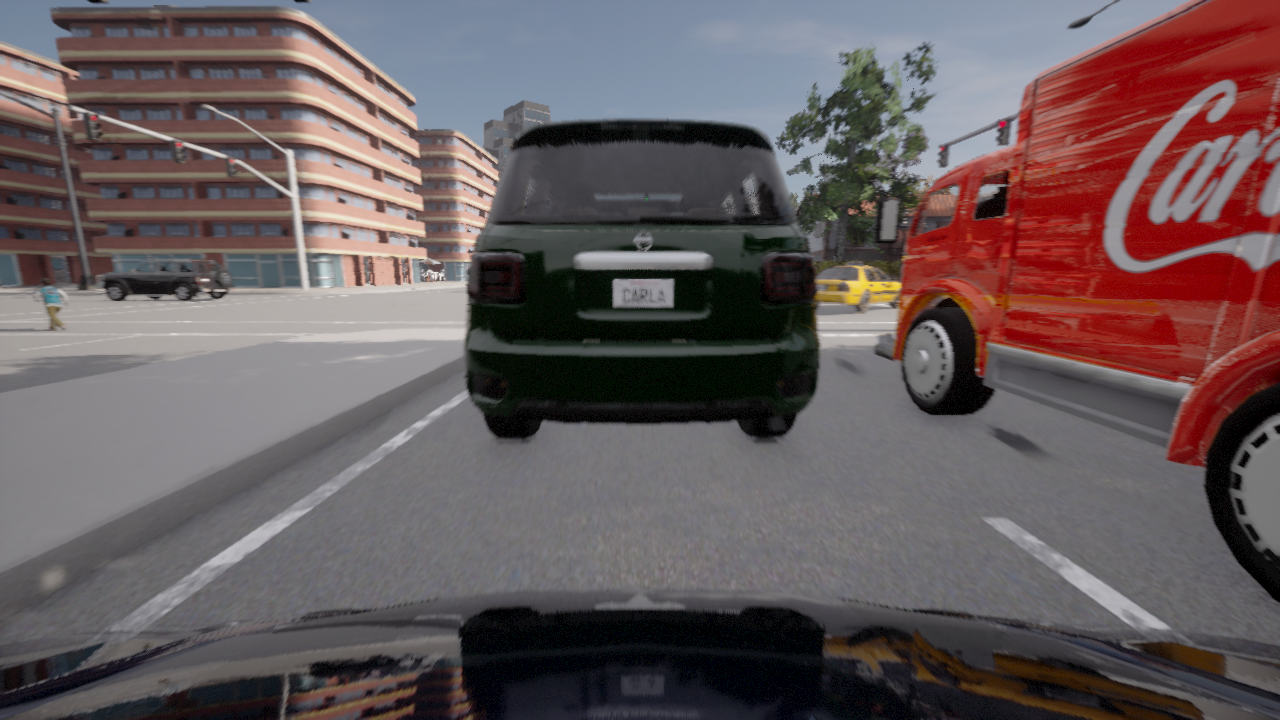cyclist: (874, 0, 1279, 603), (0, 588, 1279, 719), (463, 119, 819, 437), (97, 258, 234, 301), (816, 262, 900, 312)
pedestrian: (33, 279, 67, 331)
